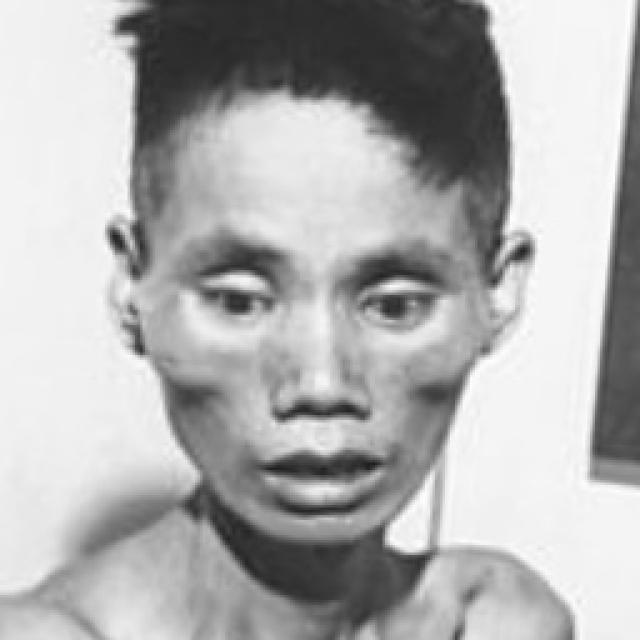no-glasses: (183, 251, 459, 354)
